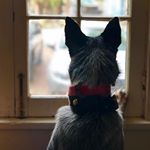puppy: (45, 13, 130, 150)
